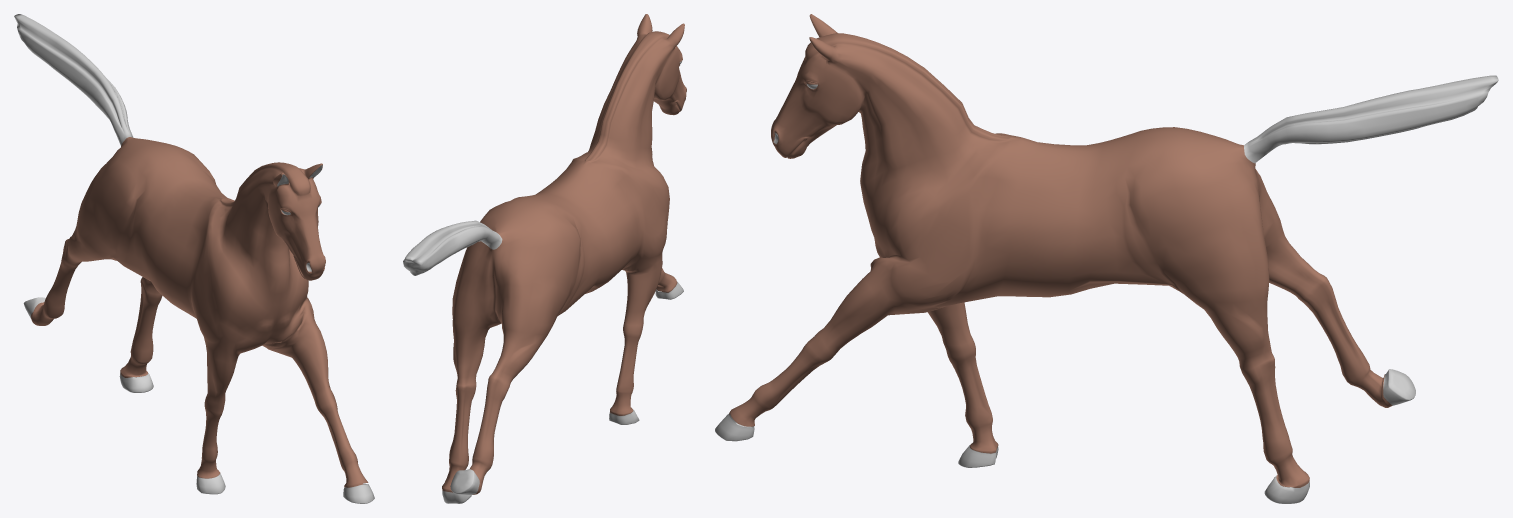
The model's file is horse_obj_0.obj.
The picture shows the model from 3 angles, left to right: view 1: azimuth 30°, elevation 25°; view 2: azimuth 150°, elevation 25°; view 3: azimuth 270°, elevation 25°; orthographic projection. The views are drawn at different scales.
Visible parts, largest first — view 1: Figure_1; view 2: Figure_1; view 3: Figure_1.
Boxes of the visible parts, <box> form: Figure_1: <box>14,14,374,503</box>; Figure_1: <box>403,14,686,503</box>; Figure_1: <box>715,14,1498,503</box>.
Bounding box in the file's own units: 0.2421 × 0.8335 × 1.3.
